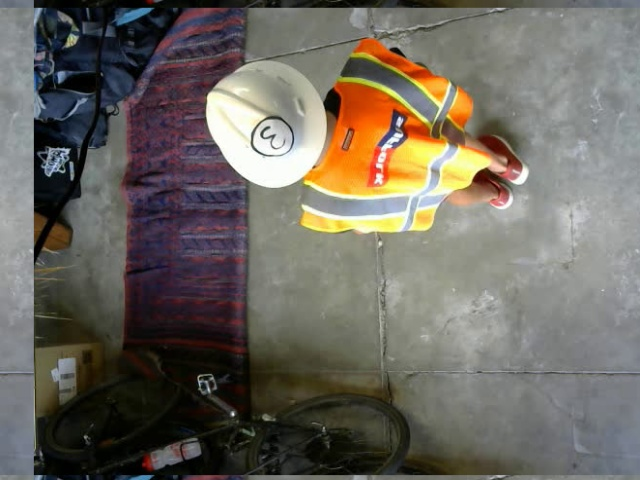three: (249, 114, 293, 156)
